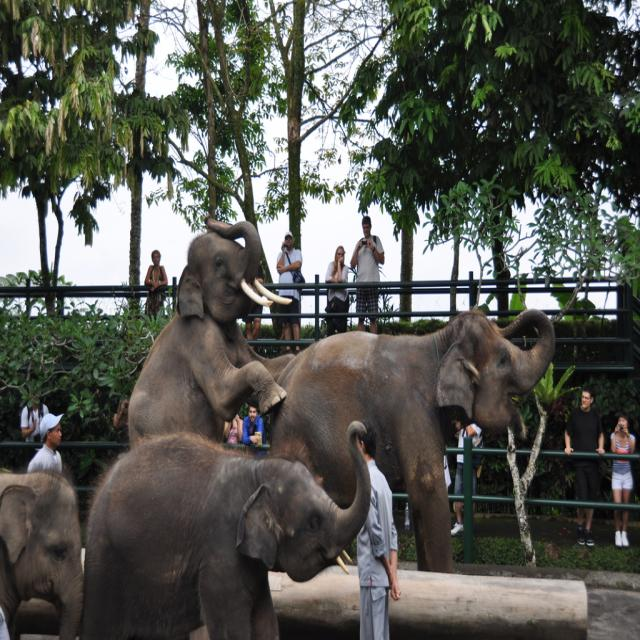Elephant: (268, 307, 556, 573), (81, 421, 371, 639), (128, 214, 293, 450), (0, 468, 84, 639)
person: (355, 419, 401, 639), (564, 385, 605, 547), (350, 216, 384, 333), (451, 417, 483, 535), (610, 412, 636, 548), (276, 230, 302, 354), (27, 412, 64, 476), (324, 245, 350, 336), (244, 263, 264, 352), (144, 249, 168, 322), (242, 404, 265, 454), (223, 413, 243, 444)
